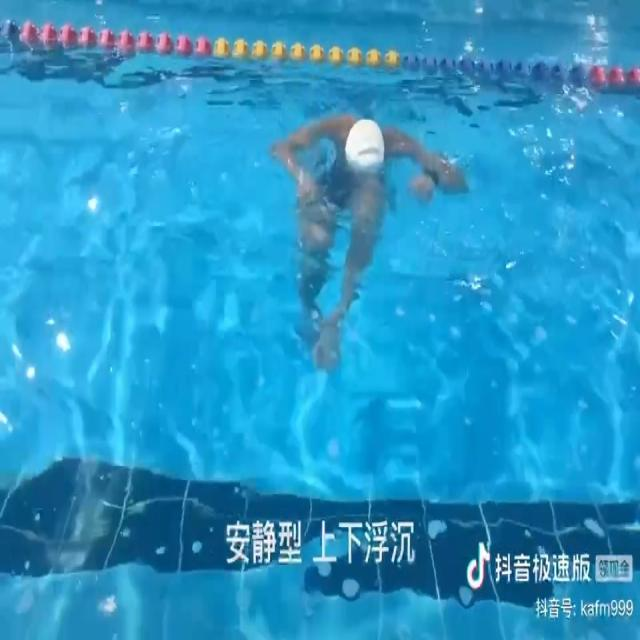Drowning: (268, 108, 468, 366)
